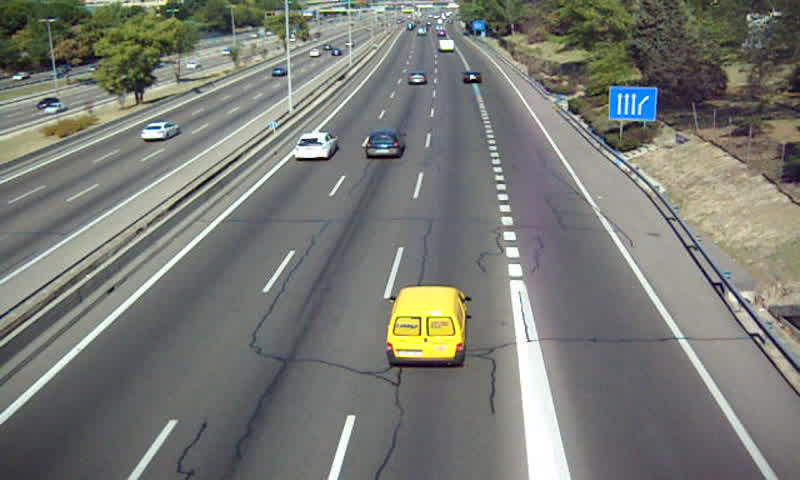car: (294, 132, 338, 159), (365, 131, 404, 159), (407, 71, 428, 87), (462, 70, 483, 84)
van: (387, 286, 466, 366)
